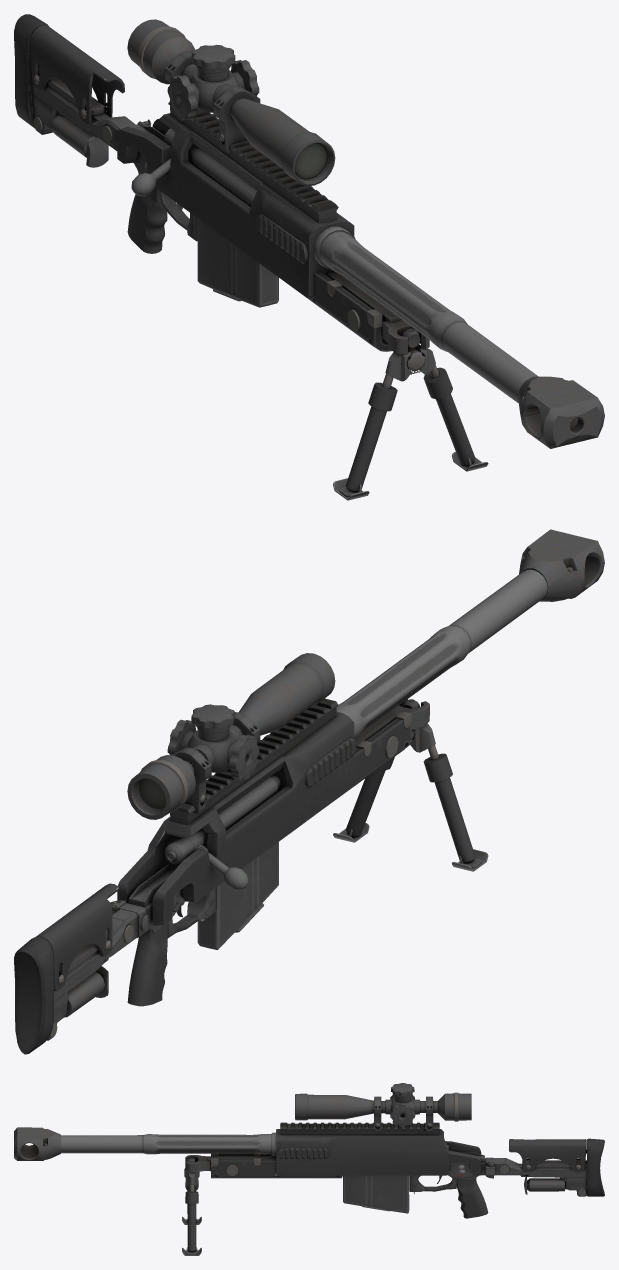
The model's file is raw.glb.
3 renders of one model, top to bottom at view 1: azimuth 30°, elevation 25°; view 2: azimuth 150°, elevation 25°; view 3: azimuth 270°, elevation 25°, orthographic. The views are drawn at different scales.
Visible parts, largest first — view 1: nemesis50_LOD0; view 2: nemesis50_LOD0; view 3: nemesis50_LOD0.
Part boxes in pixels (<box>): nemesis50_LOD0: <box>14,14,604,500</box>; nemesis50_LOD0: <box>14,529,604,1054</box>; nemesis50_LOD0: <box>14,1083,604,1255</box>.
Bounding box in the file's own units: 0.1684 × 0.327 × 1.16.
Materials: 1 (1 with a texture image).
